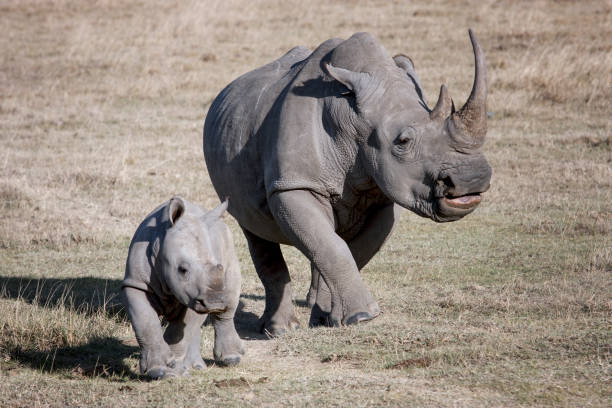rhino: (314, 22, 522, 234)
